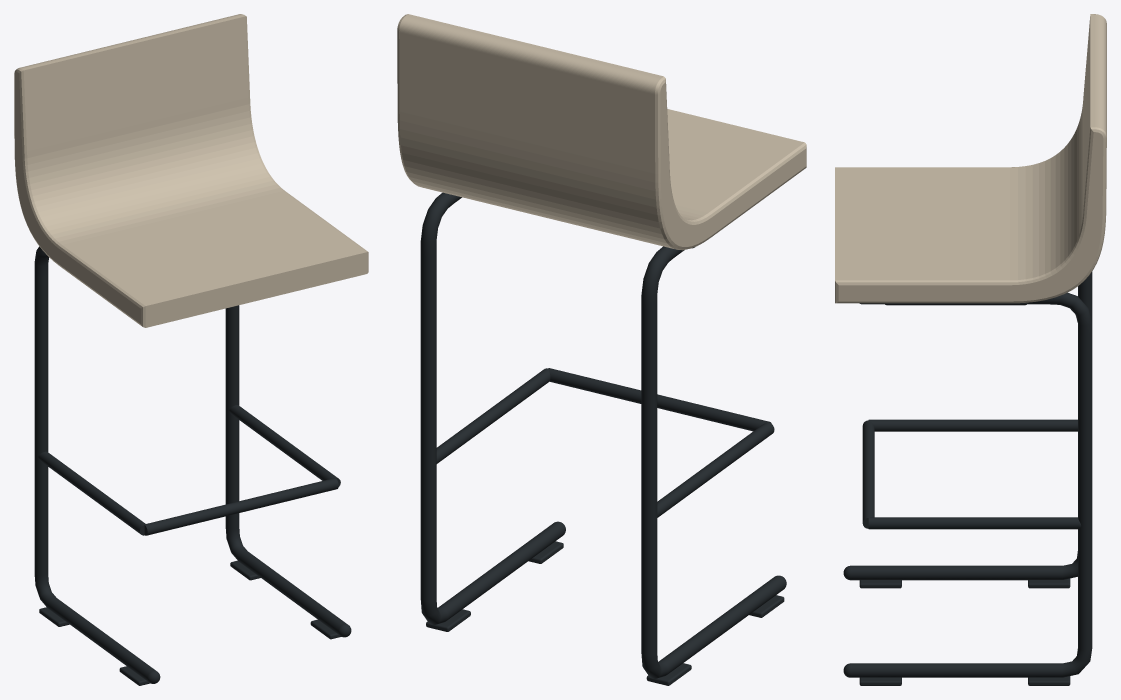
File: barStool-2.glb
3 renders of one model, left to right at view 1: azimuth 30°, elevation 25°; view 2: azimuth 150°, elevation 25°; view 3: azimuth 270°, elevation 25°, orthographic. The views are drawn at different scales.
Parts seen in each view (by area): view 1: barStool:2:archviz; view 2: barStool:2:archviz; view 3: barStool:2:archviz.
Part boxes in pixels (x1,y1,x2,y2): barStool:2:archviz: (14,14,368,685); barStool:2:archviz: (397,14,806,685); barStool:2:archviz: (835,14,1106,685).
Bounding box in the file's own units: 0.457 × 1.03 × 0.452.
